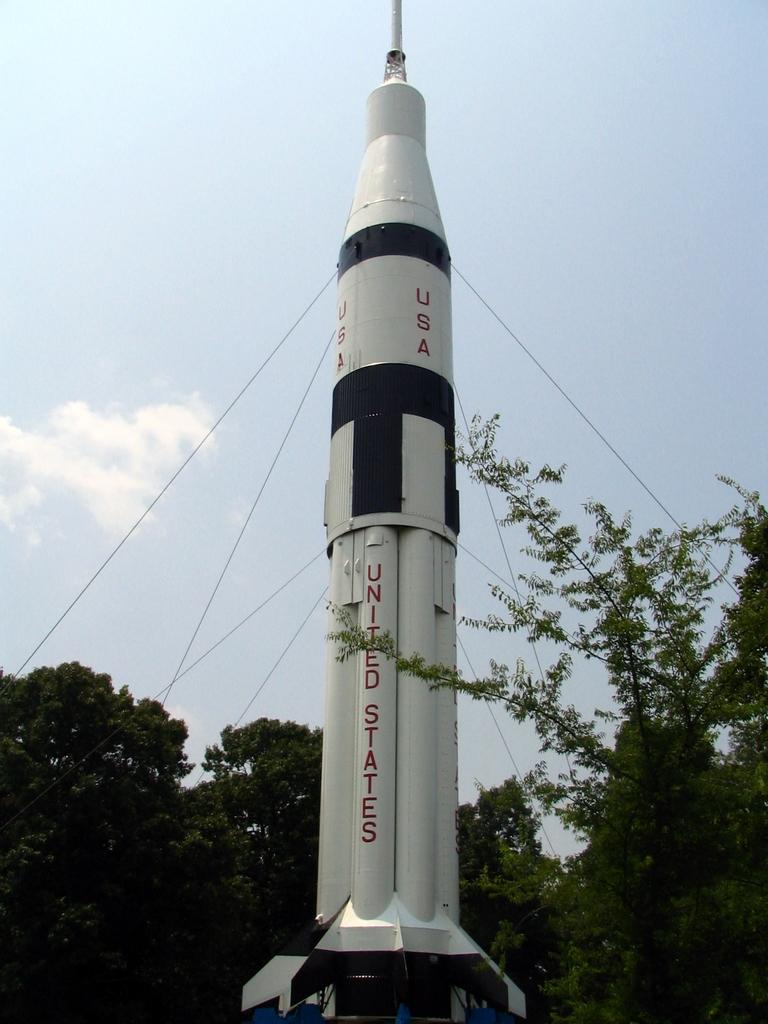Missile: (233, 0, 532, 1023)
